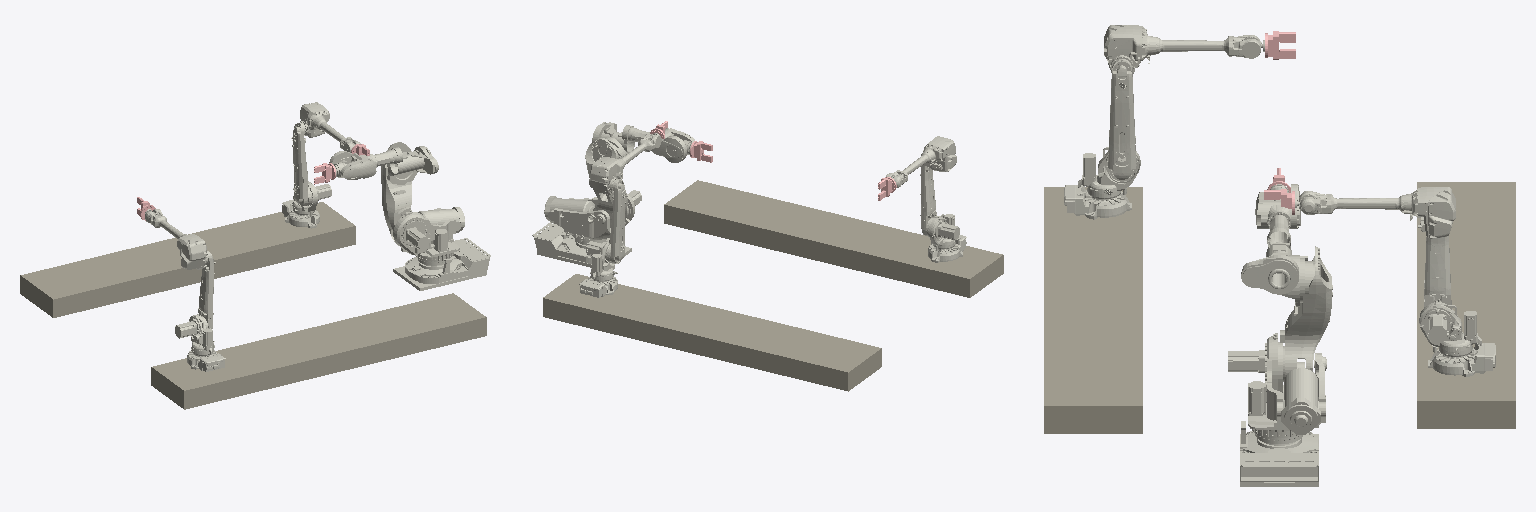
--- Render facts (derived) ---
3 views of the same robot in one strip: view 1: azimuth 30°, elevation 25°; view 2: azimuth 150°, elevation 25°; view 3: azimuth 270°, elevation 25° (orthographic).
Robot: princeton_3rob_cell — 39 links, 38 joints (18 revolute, 2 prismatic, 18 fixed); root link world; default pose: every joint at zero.
Visible links, largest first — view 1: r2_axis, r1_axis, r3_link_1, r3_base_link, r3_link_2, r3_link_4, r3_link_3, r1_link_2, r2_link_1, r2_link_3, r2_link_2, r1_link_3 (+4 smaller); view 2: r1_axis, r2_axis, r3_link_1, r3_base_link, r3_link_4, r1_link_2, r3_link_2, r1_link_3, r2_link_1, r2_link_3, r1_link_1, r2_link_2 (+4 smaller); view 3: r2_axis, r1_axis, r3_link_1, r3_base_link, r3_link_2, r2_link_2, r3_link_3, r1_link_1, r3_balancer_piston, r1_link_3, r2_link_3, r1_link_2 (+7 smaller).
Link boxes in pixels (x1,y1,x2,y2): r2_axis: (151, 293, 486, 409); r1_axis: (20, 202, 355, 317); r3_link_1: (389, 208, 461, 265); r3_base_link: (393, 238, 490, 290); r3_link_2: (381, 142, 411, 230); r3_link_4: (329, 147, 402, 179); r3_link_3: (387, 146, 438, 184); r1_link_2: (291, 122, 308, 206); r2_link_1: (175, 314, 214, 356); r2_link_3: (177, 234, 207, 269); r2_link_2: (198, 251, 215, 328); r1_link_3: (300, 102, 329, 137); r1_axis: (543, 274, 881, 391); r2_axis: (664, 180, 1003, 297); r3_link_1: (548, 190, 641, 244); r3_base_link: (532, 222, 631, 267); r3_link_4: (622, 125, 694, 162); r1_link_2: (609, 179, 627, 263); r3_link_2: (585, 138, 627, 222); r1_link_3: (589, 157, 624, 194); r2_link_1: (927, 214, 959, 250); r2_link_3: (923, 136, 956, 171); r1_link_1: (586, 240, 617, 282); r2_link_2: (920, 165, 936, 235); r2_axis: (1044, 187, 1142, 433); r1_axis: (1417, 182, 1515, 428); r3_link_1: (1228, 333, 1326, 443); r3_base_link: (1240, 421, 1318, 486); r3_link_2: (1280, 246, 1332, 381); r2_link_2: (1108, 59, 1135, 182); r3_link_3: (1241, 242, 1314, 306); r1_link_1: (1419, 299, 1481, 357); r3_balancer_piston: (1281, 362, 1320, 434); r1_link_3: (1402, 187, 1455, 238); r2_link_3: (1104, 25, 1155, 73); r1_link_2: (1424, 236, 1451, 306).
Bounding box of the posed robot: 6.4 × 4.63 × 2.36 m (x, y, z).
27 mesh visuals loaded from 19 distinct referenced files (17 binary STL); not drawn: 2 (reference not matched to a file when rendering).

URDF robot description (princeton_3rob_cell):
<?xml version="1.0" ?>
<!-- =================================================================================== -->
<!-- |    This document was autogenerated by xacro from princeton_3rob_cell.xacro      | -->
<!-- |    EDITING THIS FILE BY HAND IS NOT RECOMMENDED                                 | -->
<!-- =================================================================================== -->
<robot name="princeton_3rob_cell">
  <!-- Conversion were obtained from http://www.e-paint.co.uk/Lab_values.asp
       unless otherwise stated. -->
  <link name="world"/>
  <!-- -->
  <!--ROBOT 1-->
  <joint name="r1_world_joint" type="fixed">
    <parent link="world"/>
    <child link="r1_axis"/>
    <origin rpy="0.0 0.0 3.14159" xyz="3.6986 3.4507 0.015"/>
  </joint>
  <!-- Conversion were obtained from http://www.e-paint.co.uk/Lab_values.asp
       unless otherwise stated. -->
  <!-- Conversion were obtained from http://www.e-paint.co.uk/Lab_values.asp
       unless otherwise stated. -->
  <!-- LINEAR AXIS -->
  <!-- linear axis link list -->
  <link name="r1_axis">
    <inertial>
      <origin xyz="0.0 0.0 0.0"/>
      <mass value="120"/>
      <inertia ixx="-4.98000" ixy="-0.00000" ixz="2.70000" iyy="-5.95200" iyz="-0.00000" izz="0.82800"/>
    </inertial>
    <visual>
      <geometry>
        <mesh filename="package://abb_on_axis/meshes/visual/axis.stl"/>
      </geometry>
      <material name="">
        <color rgba="0.7058823 0.6901961 0.6313725 1"/>
      </material>
    </visual>
    <collision>
      <geometry>
        <mesh filename="package://abb_on_axis/meshes/collision/axis.stl"/>
      </geometry>
      <material name="">
        <color rgba="0.7058823 0.6901961 0.6313725 1"/>
      </material>
    </collision>
  </link>
  <link name="r1_cart">
    <inertial>
      <origin xyz="0.0 0.0 0.0"/>
      <mass value="120.00000"/>
      <inertia ixx="-4.98000" ixy="-0.00000" ixz="2.70000" iyy="-5.95200" iyz="-0.00000" izz="0.82800"/>
    </inertial>
    <visual>
      <geometry>
        <mesh filename="package://abb_on_axis/meshes/visual/cart.stl"/>
      </geometry>
      <material name="">
        <color rgba="0.8392157 0.8352941 0.7921569 1"/>
      </material>
    </visual>
    <collision>
      <geometry>
        <mesh filename="package://abb_on_axis/meshes/collision/cart.stl"/>
      </geometry>
      <material name="">
        <color rgba="0.8392157 0.8352941 0.7921569 1"/>
      </material>
    </collision>
  </link>
  <!-- linear axis joint list -->
  <joint name="r1_cart_joint" type="prismatic">
    <parent link="r1_axis"/>
    <child link="r1_cart"/>
    <origin rpy="0 0 0 " xyz="0 0 0"/>
    <axis xyz="1 0 0"/>
    <limit effort="100000" lower="0" upper="3.9" velocity="2.618"/>
    <dynamics damping="0.2" friction="0"/>
  </joint>
  <joint name="r1_abb_joint" type="fixed">
    <parent link="r1_cart"/>
    <child link="r1_base_link"/>
    <origin rpy="0 0 1.5707963267948966 " xyz="0 0 0 "/>
    <dynamics damping="0.2" friction="0"/>
  </joint>
  <!-- ARE WE MISSING A WORLD TO AXIS fixed joint? for only the abb_on_axis group?-->
  <!-- GRIPPER -->
  <!-- gripper link list -->
  <link name="r1_gripper">
    <visual>
      <geometry>
        <mesh filename="package://abb_irb4600_40_255/meshes/visual/gripper.stl"/>
      </geometry>
      <material name="">
        <color rgba="1.0 0.8 0.796078431372549 1"/>
      </material>
    </visual>
    <collision>
      <geometry>
        <mesh filename="package://abb_irb4600_40_255/meshes/collision/gripper.stl"/>
      </geometry>
      <material name="">
        <color rgba="1.0 0.8 0.796078431372549 1"/>
      </material>
    </collision>
  </link>
  <link name="r1_tcp"/>
  <!-- gripper joint list -->
  <joint name="r1_gripper_joint" type="fixed">
    <parent link="r1_tool0"/>
    <child link="r1_gripper"/>
    <origin rpy="0 0 0" xyz="0 0 0"/>
  </joint>
  <joint name="r1_tcp_joint" type="fixed">
    <parent link="r1_gripper"/>
    <child link="r1_tcp"/>
    <origin rpy="0 0 0" xyz="0 0 0.352"/>
  </joint>
  <!-- IRB4600 -->
  <!-- irb4600 link list -->
  <link name="r1_base_link">
    <inertial>
      <origin xyz="0.0 0.0 0.0"/>
      <mass value="120.00000"/>
      <inertia ixx="-4.98000" ixy="-0.00000" ixz="2.70000" iyy="-5.95200" iyz="-0.00000" izz="0.82800"/>
    </inertial>
    <visual>
      <geometry>
        <mesh filename="package://abb_irb4600_40_255/meshes/visual/base_link.stl"/>
      </geometry>
      <material name="">
        <color rgba="0.8392157 0.8352941 0.7921569 1"/>
      </material>
    </visual>
    <collision>
      <geometry>
        <mesh filename="package://abb_irb4600_40_255/meshes/collision/base_link.stl"/>
      </geometry>
      <material name="">
        <color rgba="0.8392157 0.8352941 0.7921569 1"/>
      </material>
    </collision>
  </link>
  <link name="r1_link_1">
    <inertial>
      <origin xyz="0.18000 0.00000 0.50000"/>
      <mass value="120.00000"/>
      <inertia ixx="-4.98000" ixy="-0.00000" ixz="2.70000" iyy="-5.95200" iyz="-0.00000" izz="0.82800"/>
    </inertial>
    <visual>
      <geometry>
        <mesh filename="package://abb_irb4600_40_255/meshes/visual/link_1.stl"/>
      </geometry>
      <material name="">
        <color rgba="0.8392157 0.8352941 0.7921569 1"/>
      </material>
    </visual>
    <collision>
      <geometry>
        <mesh filename="package://abb_irb4600_40_255/meshes/collision/link_1.stl"/>
      </geometry>
      <material name="">
        <color rgba="0.8392157 0.8352941 0.7921569 1"/>
      </material>
    </collision>
  </link>
  <link name="r1_link_2">
    <inertial>
      <origin xyz="0.94000 0.08000 -0.34000"/>
      <mass value="120.00000"/>
      <inertia ixx="-2.96000" ixy="2.25600" ixz="-9.58800" iyy="-18.72601" iyz="-0.81600" izz="-14.95000"/>
    </inertial>
    <visual>
      <geometry>
        <mesh filename="package://abb_irb4600_40_255/meshes/visual/link_2.stl"/>
      </geometry>
      <material name="">
        <color rgba="0.8392157 0.8352941 0.7921569 1"/>
      </material>
    </visual>
    <collision>
      <geometry>
        <mesh filename="package://abb_irb4600_40_255/meshes/collision/link_2.stl"/>
      </geometry>
      <material name="">
        <color rgba="0.8392157 0.8352941 0.7921569 1"/>
      </material>
    </collision>
  </link>
  <link name="r1_link_3">
    <inertial>
      <origin xyz="0.07000 -0.26600 0.08800"/>
      <mass value="120.00000"/>
      <inertia ixx="1.34500" ixy="-0.55860" ixz="0.18480" iyy="4.65068" iyz="-0.70224" izz="2.76032"/>
    </inertial>
    <visual>
      <geometry>
        <mesh filename="package://abb_irb4600_40_255/meshes/visual/link_3.stl"/>
      </geometry>
      <material name="">
        <color rgba="0.8392157 0.8352941 0.7921569 1"/>
      </material>
    </visual>
    <collision>
      <geometry>
        <mesh filename="package://abb_irb4600_40_255/meshes/collision/link_3.stl"/>
      </geometry>
      <material name="">
        <color rgba="0.8392157 0.8352941 0.7921569 1"/>
      </material>
    </collision>
  </link>
  <link name="r1_link_4">
    <inertial>
      <origin xyz="0.00000 0.00000 1.00000"/>
      <mass value="40.00000"/>
      <inertia ixx="-8.00000" ixy="-0.00000" ixz="-0.00000" iyy="-8.00000" iyz="-0.00000" izz="0.48200"/>
    </inertial>
    <visual>
      <geometry>
        <mesh filename="package://abb_irb4600_40_255/meshes/visual/link_4.stl"/>
      </geometry>
      <material name="">
        <color rgba="0.8392157 0.8352941 0.7921569 1"/>
      </material>
    </visual>
    <collision>
      <geometry>
        <mesh filename="package://abb_irb4600_40_255/meshes/collision/link_4.stl"/>
      </geometry>
      <material name="">
        <color rgba="0.8392157 0.8352941 0.7921569 1"/>
      </material>
    </collision>
  </link>
  <link name="r1_link_5">
    <inertial>
      <origin xyz="0.14000 0.00000 0.00000"/>
      <mass value="10.00000"/>
      <inertia ixx="0.04000" ixy="-0.00000" ixz="-0.00000" iyy="-0.00900" iyz="-0.00000" izz="-0.00400"/>
    </inertial>
    <visual>
      <geometry>
        <mesh filename="package://abb_irb4600_40_255/meshes/visual/link_5.stl"/>
      </geometry>
      <material name="">
        <color rgba="0.8392157 0.8352941 0.7921569 1"/>
      </material>
    </visual>
    <collision>
      <geometry>
        <mesh filename="package://abb_irb4600_40_255/meshes/collision/link_5.stl"/>
      </geometry>
      <material name="">
        <color rgba="0.8392157 0.8352941 0.7921569 1"/>
      </material>
    </collision>
  </link>
  <link name="r1_link_6">
    <inertial>
      <origin xyz="0.08100 -0.09100 0.33200"/>
      <mass value="5.00000"/>
      <inertia ixx="-0.29652" ixy="-0.03686" ixz="0.09396" iyy="-0.28792" iyz="-0.10556" izz="-0.04621"/>
    </inertial>
    <visual>
      <geometry>
        <mesh filename="package://abb_irb4600_40_255/meshes/visual/link_6.stl"/>
      </geometry>
      <material name="">
        <color rgba="0.8392157 0.8352941 0.7921569 1"/>
      </material>
    </visual>
    <collision>
      <geometry>
        <mesh filename="package://abb_irb4600_40_255/meshes/collision/link_6.stl"/>
      </geometry>
      <material name="">
        <color rgba="0.8392157 0.8352941 0.7921569 1"/>
      </material>
    </collision>
  </link>
  <link name="r1_tool0"/>
  <!-- irb4600 joint list -->
  <joint name="r1_joint_1" type="revolute">
    <parent link="r1_base_link"/>
    <child link="r1_link_1"/>
    <origin rpy="0 0 0" xyz="0 0 0.495"/>
    <axis xyz="0 0 1"/>
    <limit effort="100000" lower="-3.141592653589793" upper="3.141592653589793" velocity="2.618"/>
    <dynamics damping="0.2" friction="0"/>
  </joint>
  <joint name="r1_joint_2" type="revolute">
    <parent link="r1_link_1"/>
    <child link="r1_link_2"/>
    <origin rpy="0 0 0" xyz="0.175 0 0"/>
    <axis xyz="0 1 0"/>
    <limit effort="100000" lower="-1.3089969389957472" upper="2.6179938779914944" velocity="2.618"/>
    <dynamics damping="0.2" friction="0"/>
  </joint>
  <joint name="r1_joint_3" type="revolute">
    <parent link="r1_link_2"/>
    <child link="r1_link_3"/>
    <origin rpy="0 0 0" xyz="0 0 1.095"/>
    <axis xyz="0 1 0"/>
    <limit effort="100000" lower="-3.141592653589793" upper="1.3089969389957472" velocity="2.618"/>
    <dynamics damping="0.2" friction="0"/>
  </joint>
  <joint name="r1_joint_4" type="revolute">
    <parent link="r1_link_3"/>
    <child link="r1_link_4"/>
    <origin rpy="0 0 0" xyz="0 0 0.175"/>
    <axis xyz="1 0 0"/>
    <limit effort="10000" lower="-6.981317007977318" upper="6.981317007977318" velocity="6.2832"/>
    <dynamics damping="0.2" friction="0"/>
  </joint>
  <joint name="r1_joint_5" type="revolute">
    <parent link="r1_link_4"/>
    <child link="r1_link_5"/>
    <origin rpy="0 0 0" xyz="1.270 0 0"/>
    <axis xyz="0 1 0"/>
    <limit effort="100000" lower="-2.181661564992912" upper="2.0943951023931953" velocity="6.2832"/>
    <dynamics damping="0.2" friction="0"/>
  </joint>
  <joint name="r1_joint_6" type="revolute">
    <parent link="r1_link_5"/>
    <child link="r1_link_6"/>
    <origin rpy="0 0 0" xyz="0.135 0 0"/>
    <axis xyz="1 0 0"/>
    <limit effort="100000" lower="-6.981317007977318" upper="6.981317007977318" velocity="7.854"/>
    <dynamics damping="0.2" friction="0"/>
  </joint>
  <joint name="r1_joint_6-tool0" type="fixed">
    <parent link="r1_link_6"/>
    <child link="r1_tool0"/>
    <origin rpy="0 1.5707963267948966 0" xyz="0 0 0"/>
  </joint>
  <!-- -->
  <!-- IRB4600 base_link to ABB World Coordinates transform -->
  <link name="r1_base"/>
  <joint name="r1_base_link-base" type="fixed">
    <parent link="r1_base_link"/>
    <child link="r1_base"/>
    <origin rpy="0 0 0" xyz="0 0 0"/>
  </joint>
  <!-- -->
  <!--ROBOT 2-->
  <joint name="r2_world_joint" type="fixed">
    <parent link="world"/>
    <child link="r2_axis"/>
    <origin rpy="0.0 0.0 0.0" xyz="0.0 0.00137 0.00036"/>
  </joint>
  <!-- Conversion were obtained from http://www.e-paint.co.uk/Lab_values.asp
       unless otherwise stated. -->
  <!-- Conversion were obtained from http://www.e-paint.co.uk/Lab_values.asp
       unless otherwise stated. -->
  <!-- LINEAR AXIS -->
  <!-- linear axis link list -->
  <link name="r2_axis">
    <inertial>
      <origin xyz="0.0 0.0 0.0"/>
      <mass value="120"/>
      <inertia ixx="-4.98000" ixy="-0.00000" ixz="2.70000" iyy="-5.95200" iyz="-0.00000" izz="0.82800"/>
    </inertial>
    <visual>
      <geometry>
        <mesh filename="package://abb_on_axis/meshes/visual/axis.stl"/>
      </geometry>
      <material name="">
        <color rgba="0.7058823 0.6901961 0.6313725 1"/>
      </material>
    </visual>
    <collision>
      <geometry>
        <mesh filename="package://abb_on_axis/meshes/collision/axis.stl"/>
      </geometry>
      <material name="">
        <color rgba="0.7058823 0.6901961 0.6313725 1"/>
      </material>
    </collision>
  </link>
  <link name="r2_cart">
    <inertial>
      <origin xyz="0.0 0.0 0.0"/>
      <mass value="120.00000"/>
      <inertia ixx="-4.98000" ixy="-0.00000" ixz="2.70000" iyy="-5.95200" iyz="-0.00000" izz="0.82800"/>
    </inertial>
    <visual>
      <geometry>
        <mesh filename="package://abb_on_axis/meshes/visual/cart.stl"/>
      </geometry>
      <material name="">
        <color rgba="0.8392157 0.8352941 0.7921569 1"/>
      </material>
    </visual>
    <collision>
      <geometry>
        <mesh filename="package://abb_on_axis/meshes/collision/cart.stl"/>
      </geometry>
      <material name="">
        <color rgba="0.8392157 0.8352941 0.7921569 1"/>
      </material>
    </collision>
  </link>
  <!-- linear axis joint list -->
  <joint name="r2_cart_joint" type="prismatic">
    <parent link="r2_axis"/>
    <child link="r2_cart"/>
    <origin rpy="0 0 0 " xyz="0 0 0"/>
    <axis xyz="1 0 0"/>
    <limit effort="100000" lower="0" upper="3.9" velocity="2.618"/>
    <dynamics damping="0.2" friction="0"/>
  </joint>
  <joint name="r2_abb_joint" type="fixed">
    <parent link="r2_cart"/>
    <child link="r2_base_link"/>
    <origin rpy="0 0 1.5707963267948966 " xyz="0 0 0 "/>
    <dynamics damping="0.2" friction="0"/>
  </joint>
  <!-- ARE WE MISSING A WORLD TO AXIS fixed joint? for only the abb_on_axis group?-->
  <!-- GRIPPER -->
  <!-- gripper link list -->
  <link name="r2_gripper">
    <visual>
      <geometry>
        <mesh filename="package://abb_irb4600_40_255/meshes/visual/gripper.stl"/>
      </geometry>
      <material name="">
        <color rgba="1.0 0.8 0.796078431372549 1"/>
      </material>
    </visual>
    <collision>
      <geometry>
        <mesh filename="package://abb_irb4600_40_255/meshes/collision/gripper.stl"/>
      </geometry>
      <material name="">
        <color rgba="1.0 0.8 0.796078431372549 1"/>
      </material>
    </collision>
  </link>
  <link name="r2_tcp"/>
  <!-- gripper joint list -->
  <joint name="r2_gripper_joint" type="fixed">
    <parent link="r2_tool0"/>
    <child link="r2_gripper"/>
    <origin rpy="0 0 0" xyz="0 0 0"/>
  </joint>
  <joint name="r2_tcp_joint" type="fixed">
    <parent link="r2_gripper"/>
    <child link="r2_tcp"/>
    <origin rpy="0 0 0" xyz="0 0 0.352"/>
  </joint>
  <!-- IRB4600 -->
  <!-- irb4600 link list -->
  <link name="r2_base_link">
    <inertial>
      <origin xyz="0.0 0.0 0.0"/>
      <mass value="120.00000"/>
      <inertia ixx="-4.98000" ixy="-0.00000" ixz="2.70000" iyy="-5.95200" iyz="-0.00000" izz="0.82800"/>
    </inertial>
    <visual>
      <geometry>
        <mesh filename="package://abb_irb4600_40_255/meshes/visual/base_link.stl"/>
      </geometry>
      <material name="">
        <color rgba="0.8392157 0.8352941 0.7921569 1"/>
      </material>
    </visual>
    <collision>
      <geometry>
        <mesh filename="package://abb_irb4600_40_255/meshes/collision/base_link.stl"/>
      </geometry>
      <material name="">
        <color rgba="0.8392157 0.8352941 0.7921569 1"/>
      </material>
    </collision>
  </link>
  <link name="r2_link_1">
    <inertial>
      <origin xyz="0.18000 0.00000 0.50000"/>
      <mass value="120.00000"/>
      <inertia ixx="-4.98000" ixy="-0.00000" ixz="2.70000" iyy="-5.95200" iyz="-0.00000" izz="0.82800"/>
    </inertial>
    <visual>
      <geometry>
        <mesh filename="package://abb_irb4600_40_255/meshes/visual/link_1.stl"/>
      </geometry>
      <material name="">
        <color rgba="0.8392157 0.8352941 0.7921569 1"/>
      </material>
    </visual>
    <collision>
      <geometry>
        <mesh filename="package://abb_irb4600_40_255/meshes/collision/link_1.stl"/>
      </geometry>
      <material name="">
        <color rgba="0.8392157 0.8352941 0.7921569 1"/>
      </material>
    </collision>
  </link>
  <link name="r2_link_2">
    <inertial>
      <origin xyz="0.94000 0.08000 -0.34000"/>
      <mass value="120.00000"/>
      <inertia ixx="-2.96000" ixy="2.25600" ixz="-9.58800" iyy="-18.72601" iyz="-0.81600" izz="-14.95000"/>
    </inertial>
    <visual>
      <geometry>
        <mesh filename="package://abb_irb4600_40_255/meshes/visual/link_2.stl"/>
      </geometry>
      <material name="">
        <color rgba="0.8392157 0.8352941 0.7921569 1"/>
      </material>
    </visual>
    <collision>
      <geometry>
        <mesh filename="package://abb_irb4600_40_255/meshes/collision/link_2.stl"/>
      </geometry>
      <material name="">
        <color rgba="0.8392157 0.8352941 0.7921569 1"/>
      </material>
    </collision>
  </link>
  <link name="r2_link_3">
    <inertial>
      <origin xyz="0.07000 -0.26600 0.08800"/>
      <mass value="120.00000"/>
      <inertia ixx="1.34500" ixy="-0.55860" ixz="0.18480" iyy="4.65068" iyz="-0.70224" izz="2.76032"/>
    </inertial>
    <visual>
      <geometry>
        <mesh filename="package://abb_irb4600_40_255/meshes/visual/link_3.stl"/>
      </geometry>
      <material name="">
        <color rgba="0.8392157 0.8352941 0.7921569 1"/>
      </material>
    </visual>
    <collision>
      <geometry>
        <mesh filename="package://abb_irb4600_40_255/meshes/collision/link_3.stl"/>
      </geometry>
      <material name="">
        <color rgba="0.8392157 0.8352941 0.7921569 1"/>
      </material>
    </collision>
  </link>
  <link name="r2_link_4">
    <inertial>
      <origin xyz="0.00000 0.00000 1.00000"/>
      <mass value="40.00000"/>
      <inertia ixx="-8.00000" ixy="-0.00000" ixz="-0.00000" iyy="-8.00000" iyz="-0.00000" izz="0.48200"/>
    </inertial>
    <visual>
      <geometry>
        <mesh filename="package://abb_irb4600_40_255/meshes/visual/link_4.stl"/>
      </geometry>
      <material name="">
        <color rgba="0.8392157 0.8352941 0.7921569 1"/>
      </material>
    </visual>
    <collision>
      <geometry>
        <mesh filename="package://abb_irb4600_40_255/meshes/collision/link_4.stl"/>
      </geometry>
      <material name="">
        <color rgba="0.8392157 0.8352941 0.7921569 1"/>
      </material>
    </collision>
  </link>
  <link name="r2_link_5">
    <inertial>
      <origin xyz="0.14000 0.00000 0.00000"/>
      <mass value="10.00000"/>
      <inertia ixx="0.04000" ixy="-0.00000" ixz="-0.00000" iyy="-0.00900" iyz="-0.00000" izz="-0.00400"/>
    </inertial>
    <visual>
      <geometry>
        <mesh filename="package://abb_irb4600_40_255/meshes/visual/link_5.stl"/>
      </geometry>
      <material name="">
        <color rgba="0.8392157 0.8352941 0.7921569 1"/>
      </material>
    </visual>
    <collision>
      <geometry>
        <mesh filename="package://abb_irb4600_40_255/meshes/collision/link_5.stl"/>
      </geometry>
      <material name="">
        <color rgba="0.8392157 0.8352941 0.7921569 1"/>
      </material>
    </collision>
  </link>
  <link name="r2_link_6">
    <inertial>
      <origin xyz="0.08100 -0.09100 0.33200"/>
      <mass value="5.00000"/>
      <inertia ixx="-0.29652" ixy="-0.03686" ixz="0.09396" iyy="-0.28792" iyz="-0.10556" izz="-0.04621"/>
    </inertial>
    <visual>
      <geometry>
        <mesh filename="package://abb_irb4600_40_255/meshes/visual/link_6.stl"/>
      </geometry>
      <material name="">
        <color rgba="0.8392157 0.8352941 0.7921569 1"/>
      </material>
    </visual>
    <collision>
      <geometry>
        <mesh filename="package://abb_irb4600_40_255/meshes/collision/link_6.stl"/>
      </geometry>
      <material name="">
        <color rgba="0.8392157 0.8352941 0.7921569 1"/>
      </material>
    </collision>
  </link>
  <link name="r2_tool0"/>
  <!-- irb4600 joint list -->
  <joint name="r2_joint_1" type="revolute">
    <parent link="r2_base_link"/>
    <child link="r2_link_1"/>
    <origin rpy="0 0 0" xyz="0 0 0.495"/>
    <axis xyz="0 0 1"/>
    <limit effort="100000" lower="-3.141592653589793" upper="3.141592653589793" velocity="2.618"/>
    <dynamics damping="0.2" friction="0"/>
  </joint>
  <joint name="r2_joint_2" type="revolute">
    <parent link="r2_link_1"/>
    <child link="r2_link_2"/>
    <origin rpy="0 0 0" xyz="0.175 0 0"/>
    <axis xyz="0 1 0"/>
    <limit effort="100000" lower="-1.3089969389957472" upper="2.6179938779914944" velocity="2.618"/>
    <dynamics damping="0.2" friction="0"/>
  </joint>
  <joint name="r2_joint_3" type="revolute">
    <parent link="r2_link_2"/>
    <child link="r2_link_3"/>
    <origin rpy="0 0 0" xyz="0 0 1.095"/>
    <axis xyz="0 1 0"/>
    <limit effort="100000" lower="-3.141592653589793" upper="1.3089969389957472" velocity="2.618"/>
    <dynamics damping="0.2" friction="0"/>
  </joint>
  <joint name="r2_joint_4" type="revolute">
    <parent link="r2_link_3"/>
    <child link="r2_link_4"/>
    <origin rpy="0 0 0" xyz="0 0 0.175"/>
    <axis xyz="1 0 0"/>
    <limit effort="10000" lower="-6.981317007977318" upper="6.981317007977318" velocity="6.2832"/>
    <dynamics damping="0.2" friction="0"/>
  </joint>
  <joint name="r2_joint_5" type="revolute">
    <parent link="r2_link_4"/>
    <child link="r2_link_5"/>
    <origin rpy="0 0 0" xyz="1.270 0 0"/>
    <axis xyz="0 1 0"/>
    <limit effort="100000" lower="-2.181661564992912" upper="2.0943951023931953" velocity="6.2832"/>
    <dynamics damping="0.2" friction="0"/>
  </joint>
  <joint name="r2_joint_6" type="revolute">
    <parent link="r2_link_5"/>
    <child link="r2_link_6"/>
    <origin rpy="0 0 0" xyz="0.135 0 0"/>
    <axis xyz="1 0 0"/>
    <limit effort="100000" lower="-6.981317007977318" upper="6.981317007977318" velocity="7.854"/>
    <dynamics damping="0.2" friction="0"/>
  </joint>
  <joint name="r2_joint_6-tool0" type="fixed">
    <parent link="r2_link_6"/>
    <child link="r2_tool0"/>
    <origin rpy="0 1.5707963267948966 0" xyz="0 0 0"/>
  </joint>
  <!-- -->
  <!-- IRB4600 base_link to ABB World Coordinates transform -->
  <link name="r2_base"/>
  <joint name="r2_base_link-base" type="fixed">
    <parent link="r2_base_link"/>
    <child link="r2_base"/>
    <origin rpy="0 0 0" xyz="0 0 0"/>
  </joint>
  <!-- -->
  <!--ROBOT 3-->
  <joint name="r3_world_joint" type="fixed">
    <parent link="world"/>
    <child link="r3_base_link"/>
    <origin rpy="0.0 0.0 3.14159" xyz="4.885 1.7193 -0.3774"/>
  </joint>
  <!-- GRIPPER -->
  <!-- gripper link list -->
  <link name="r3_gripper">
    <visual>
      <geometry>
        <mesh filename="package://abb_irb7600_400_255/meshes/visual/gripper.stl"/>
      </geometry>
      <material name="">
        <color rgba="1.0 0.8 0.796078431372549 1"/>
      </material>
    </visual>
    <collision>
      <geometry>
        <mesh filename="package://abb_irb7600_400_255/meshes/collision/gripper.stl"/>
      </geometry>
      <material name="">
        <color rgba="1.0 0.8 0.796078431372549 1"/>
      </material>
    </collision>
  </link>
  <link name="r3_tcp"/>
  <!-- gripper joint list -->
  <joint name="r3_gripper_joint" type="fixed">
    <parent link="r3_tool0"/>
    <child link="r3_gripper"/>
    <origin rpy="0 0 0" xyz="0 0 0"/>
  </joint>
  <joint name="r3_tcp_joint" type="fixed">
    <parent link="r3_gripper"/>
    <child link="r3_tcp"/>
    <origin rpy="0 0 0" xyz="0 0 0.2153"/>
  </joint>
  <!-- IRB7600-->
  <!-- irb7600 link list -->
  <link name="r3_base_link">
    <visual>
      <geometry>
        <mesh filename="package://abb_irb7600_400_255/meshes/visual/base_link.stl"/>
      </geometry>
      <material name="">
        <color rgba="0.8392157 0.8352941 0.7921569 1"/>
      </material>
    </visual>
    <collision>
      <geometry>
        <mesh filename="package://abb_irb7600_400_255/meshes/collision/base_link.stl"/>
      </geometry>
      <material name="">
        <color rgba="0.8392157 0.8352941 0.7921569 1"/>
      </material>
    </collision>
  </link>
  <link name="r3_link_1">
    <visual>
      <geometry>
        <mesh filename="package://abb_irb7600_400_255/meshes/visual/link_1.stl"/>
      </geometry>
      <material name="">
        <color rgba="0.8392157 0.8352941 0.7921569 1"/>
      </material>
    </visual>
    <collision>
      <geometry>
        <mesh filename="package://abb_irb7600_400_255/meshes/collision/link_1.stl"/>
      </geometry>
      <material name="">
        <color rgba="0.8392157 0.8352941 0.7921569 1"/>
      </material>
    </collision>
  </link>
  <link name="r3_link_2">
    <visual>
      <geometry>
        <mesh filename="package://abb_irb7600_400_255/meshes/visual/link_2.stl"/>
      </geometry>
      <material name="">
        <color rgba="0.8392157 0.8352941 0.7921569 1"/>
      </material>
    </visual>
    <collision>
      <geometry>
        <mesh filename="package://abb_irb7600_400_255/meshes/collision/link_2.stl"/>
      </geometry>
      <material name="">
        <color rgba="0.8392157 0.8352941 0.7921569 1"/>
      </material>
    </collision>
  </link>
  <link name="r3_link_3">
    <visual>
      <geometry>
        <mesh filename="package://abb_irb7600_400_255/meshes/visual/link_3.stl"/>
      </geometry>
      <material name="">
        <color rgba="0.8392157 0.8352941 0.7921569 1"/>
      </material>
    </visual>
    <collision>
      <geometry>
        <mesh filename="package://abb_irb7600_400_255/meshes/collision/link_3.stl"/>
      </geometry>
      <material name="">
        <color rgba="0.8392157 0.8352941 0.7921569 1"/>
      </material>
    </collision>
  </link>
  <link name="r3_link_4">
    <visual>
      <geometry>
        <mesh filename="package://abb_irb7600_400_255/meshes/visual/link_4.stl"/>
      </geometry>
      <material name="">
        <color rgba="0.8392157 0.8352941 0.7921569 1"/>
      </material>
    </visual>
    <collision>
      <geometry>
        <mesh filename="package://abb_irb7600_400_255/meshes/collision/link_4.stl"/>
      </geometry>
      <material name="">
        <color rgba="0.8392157 0.8352941 0.7921569 1"/>
      </material>
    </collision>
  </link>
  <link name="r3_link_5">
    <visual>
      <geometry>
        <mesh filename="package://abb_irb7600_400_255/meshes/visual/link_5.stl"/>
      </geometry>
      <material name="">
        <color rgba="0.8392157 0.8352941 0.7921569 1"/>
      </material>
    </visual>
    <collision>
      <geometry>
        <mesh filename="package://abb_irb7600_400_255/meshes/collision/link_5.stl"/>
      </geometry>
      <material name="">
        <color rgba="0.8392157 0.8352941 0.7921569 1"/>
      </material>
    </collision>
  </link>
  <link name="r3_link_6">
    <visual>
      <geometry>
        <mesh filename="package://abb_irb7600_400_255/meshes/visual/link_6.stl"/>
      </geometry>
      <material name="">
        <color rgba="0.8392157 0.8352941 0.7921569 1"/>
      </material>
    </visual>
    <collision>
      <geometry>
        <mesh filename="package://abb_irb7600_400_255/meshes/collision/link_6.stl"/>
      </geometry>
      <material name="">
        <color rgba="0.8392157 0.8352941 0.7921569 1"/>
      </material>
    </collision>
  </link>
  <link name="r3_balancer_piston">
    <visual>
      <geometry>
        <mesh filename="package://abb_irb7600_400_255/meshes/visual/balancer_piston.stl"/>
      </geometry>
      <material name="">
        <color rgba="0.8392157 0.8352941 0.7921569 1"/>
      </material>
    </visual>
    <collision>
      <geometry>
        <mesh filename="package://abb_irb7600_400_255/meshes/collision/balancer_piston.stl"/>
      </geometry>
      <material name="">
        <color rgba="0.8392157 0.8352941 0.7921569 1"/>
      </material>
    </collision>
  </link>
  <link name="r3_tool0"/>
  <!-- end of link list -->
  <!-- joint list -->
  <joint name="r3_joint_1" type="revolute">
    <parent link="r3_base_link"/>
    <child link="r3_link_1"/>
    <origin rpy="0 0 0" xyz="0 0 0"/>
    <axis xyz="0 0 1"/>
    <limit effort="0" lower="-3.141592653589793" upper="3.141592653589793" velocity="1.7453292519943295"/>
  </joint>
  <joint name="r3_joint_2" type="revolute">
    <parent link="r3_link_1"/>
    <child link="r3_link_2"/>
    <origin rpy="0 0 0" xyz="0.4100 0 0.7797"/>
    <axis xyz="0 1 0"/>
    <limit effort="0" lower="-1.0471975511965976" upper="1.4835298641951802" velocity="1.0471975511965976"/>
  </joint>
  <joint name="r3_joint_3" type="revolute">
    <parent link="r3_link_2"/>
    <child link="r3_link_3"/>
    <origin rpy="0 0 0" xyz="0 0 1.075"/>
    <axis xyz="0 1 0"/>
    <limit effort="0" lower="-3.141592653589793" upper="1.0471975511965976" velocity="1.0471975511965976"/>
  </joint>
  <joint name="r3_joint_4" type="revolute">
    <parent link="r3_link_3"/>
    <child link="r3_link_4"/>
    <origin rpy="0 0 0" xyz="0.1749 0 0.1650"/>
    <axis xyz="1 0 0"/>
    <limit effort="0" lower="-5.235987755982989" upper="5.235987755982989" velocity="1.7453292519943295"/>
  </joint>
  <joint name="r3_joint_5" type="revolute">
    <parent link="r3_link_4"/>
    <child link="r3_link_5"/>
    <origin rpy="0 0 0" xyz="0.8821 0 0"/>
    <axis xyz="0 1 0"/>
    <limit effort="0" lower="-1.7453292519943295" upper="1.7453292519943295" velocity="1.7453292519943295"/>
  </joint>
  <joint name="r3_joint_6" type="revolute">
    <parent link="r3_link_5"/>
    <child link="r3_link_6"/>
    <origin rpy="0 0 0" xyz="0.2490 0 0"/>
    <axis xyz="1 0 0"/>
    <limit effort="0" lower="-6.283185307179586" upper="6.283185307179586" velocity="3.3161255787892263"/>
  </joint>
  <joint name="r3_joint_6-tool0" type="fixed">
    <parent link="r3_link_6"/>
    <child link="r3_tool0"/>
    <origin rpy="0 1.5707963267948966 0" xyz="0 0 0"/>
  </joint>
  <joint name="r3_joint_balancer_piston" type="fixed">
    <parent link="r3_link_1"/>
    <child link="r3_balancer_piston"/>
    <origin rpy="0 0 0" xyz="-0.3779 0 0.6536"/>
  </joint>
  <!-- -->
  <!-- ROS-Industrial 'base' frame: base_link to ABB World Coordinates transform -->
  <link name="r3_base"/>
  <joint name="r3_base_link-base" type="fixed">
    <parent link="r3_base_link"/>
    <child link="r3_base"/>
    <origin rpy="0 0 0" xyz="0 0 0"/>
  </joint>
</robot>
